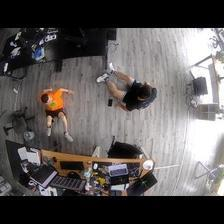fall: (97, 63, 158, 110), (39, 84, 77, 146)
